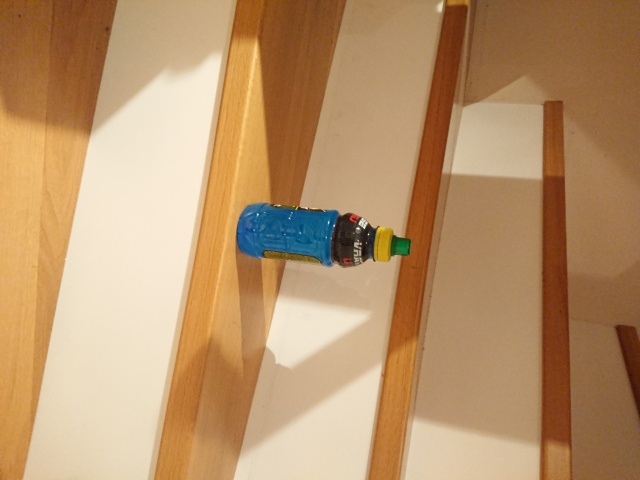Vindi Iso Sport Forest Strawberries 500mL: (234, 201, 412, 268)
